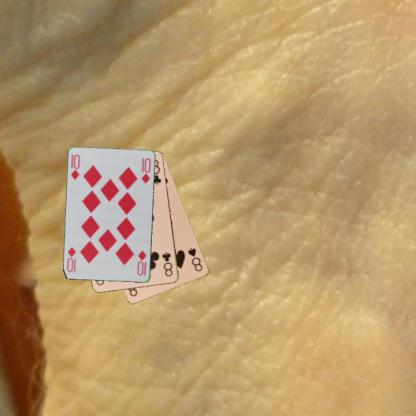10d: (68, 152, 82, 181), (135, 248, 148, 277)
8c: (159, 250, 174, 278)
8s: (185, 245, 204, 273)
